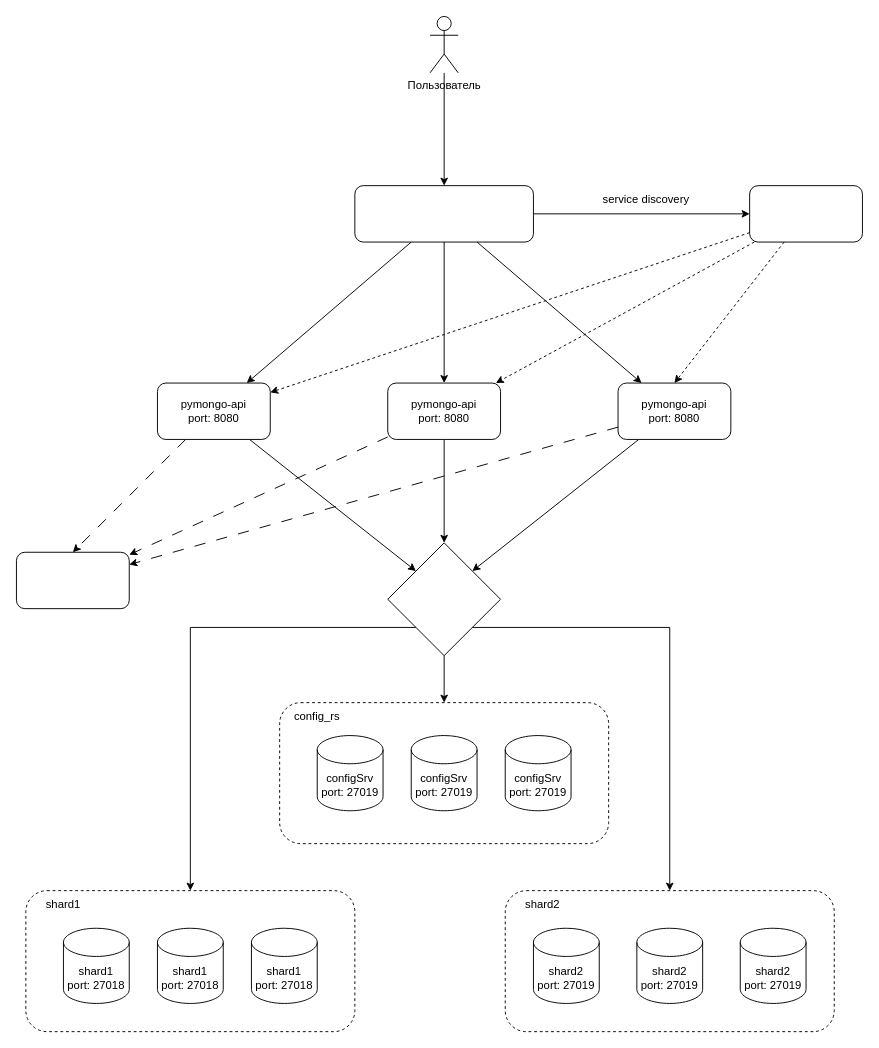
Image size: 879x1048. Some labels were removed from this diagram. The centre of each missing label's shape, as x and y in pixels:
"API Gateway (nginx) :80" goes at [443,213].
"Consul service discovery" goes at [805,213].
"mongos (router) port: 27017" goes at [444,599].
"redis port: 6379" goes at [72,580].
